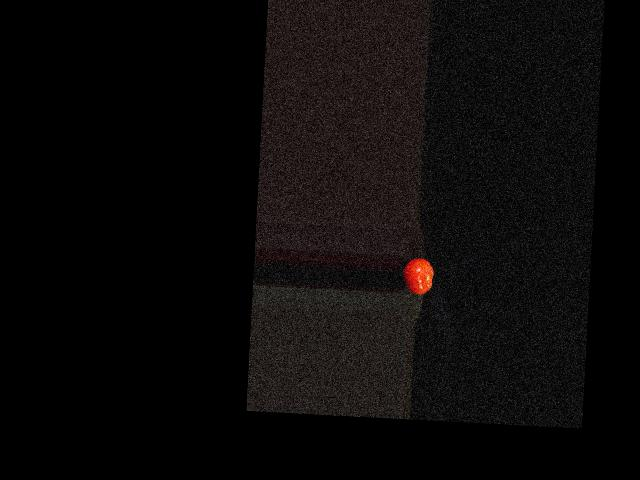tomato: (402, 256, 434, 294)
